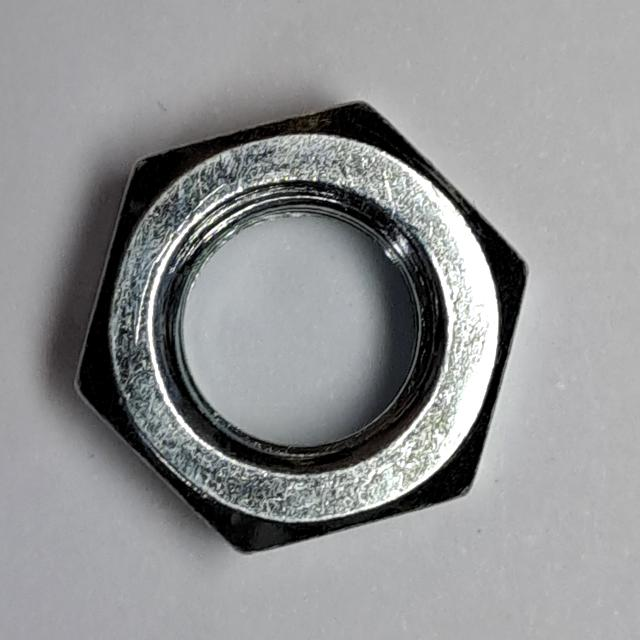Excellent: (66, 90, 534, 566)
